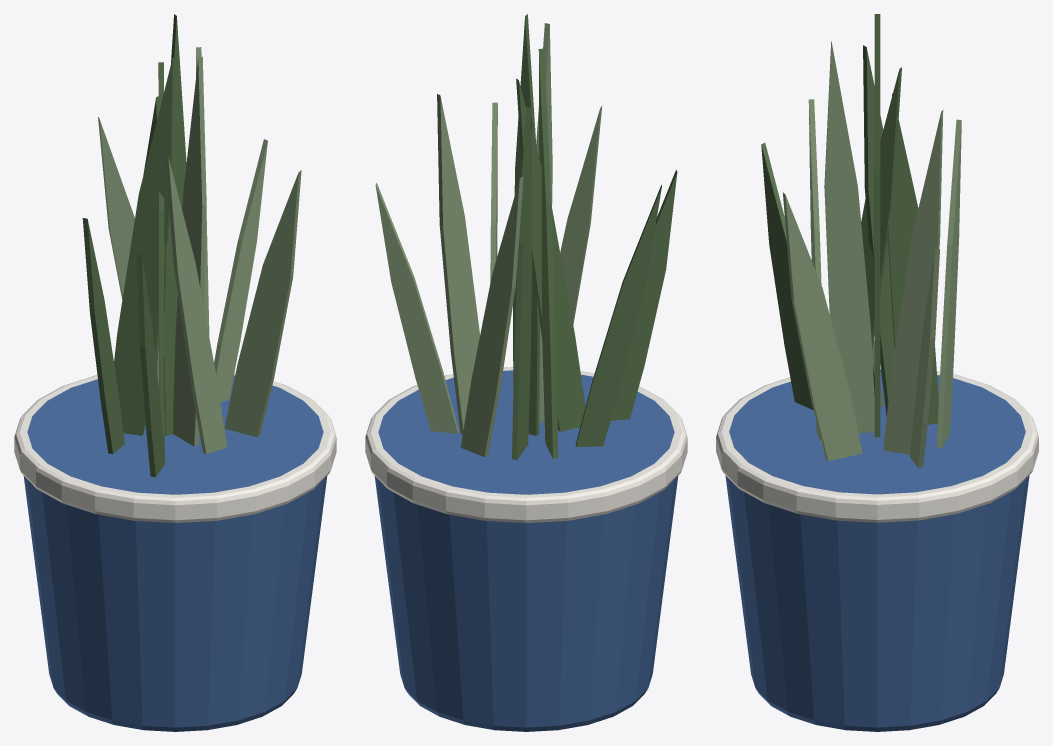
The model's file is hh_cat_office_plant.glb.
3 renders of one model, left to right at view 1: azimuth 30°, elevation 25°; view 2: azimuth 150°, elevation 25°; view 3: azimuth 270°, elevation 25°, orthographic.
Parts seen in each view (by area): view 1: pot, pot_rim, leaf.002, leaf.005, leaf.003, leaf.011, leaf.009, leaf, leaf.006, leaf.010, leaf.007, leaf.004; view 2: pot, pot_rim, leaf.001, leaf.007, leaf.006, leaf.004, leaf.009, leaf.008, leaf.002, leaf.010, leaf.003, leaf (+2 smaller); view 3: pot, pot_rim, leaf.011, leaf.005, leaf.001, leaf.010, leaf.008, leaf.007, leaf.002, leaf.004, leaf, leaf.009 (+1 smaller).
Part boxes in pixels (box(x1,y1,x2,y2)): pot: box(23, 375, 327, 731); pot_rim: box(14, 372, 336, 522); leaf.002: box(114, 57, 173, 435); leaf.005: box(224, 170, 301, 437); leaf.003: box(165, 154, 227, 454); leaf.011: box(173, 56, 206, 446); leaf.009: box(214, 139, 267, 402); leaf: box(164, 14, 186, 435); leaf.006: box(82, 218, 124, 453); leaf.010: box(136, 254, 165, 477); leaf.007: box(98, 117, 158, 387); leaf.004: box(158, 62, 164, 457); pot: box(374, 370, 678, 731); pot_rim: box(365, 367, 687, 522); leaf.001: box(437, 94, 479, 434); leaf.007: box(460, 176, 523, 457); leaf.006: box(575, 184, 661, 447); leaf.004: box(516, 78, 585, 431); leaf.009: box(375, 183, 458, 433); leaf.008: box(512, 107, 532, 459); leaf.002: box(538, 48, 558, 458); leaf.010: box(611, 170, 677, 420); leaf.003: box(560, 106, 602, 324); leaf: box(513, 14, 539, 435); pot: box(725, 369, 1029, 731); pot_rim: box(716, 366, 1038, 522); leaf.011: box(824, 41, 874, 432); leaf.005: box(782, 192, 862, 461); leaf.001: box(883, 110, 943, 454); leaf.010: box(761, 143, 813, 410); leaf.008: box(888, 93, 938, 424); leaf.007: box(936, 119, 961, 447); leaf.002: box(863, 45, 894, 416); leaf.004: box(861, 67, 901, 349); leaf: box(874, 14, 880, 437); leaf.009: box(910, 249, 939, 467).
Bounding box in the file's own units: 0.35 × 0.8 × 0.35.
